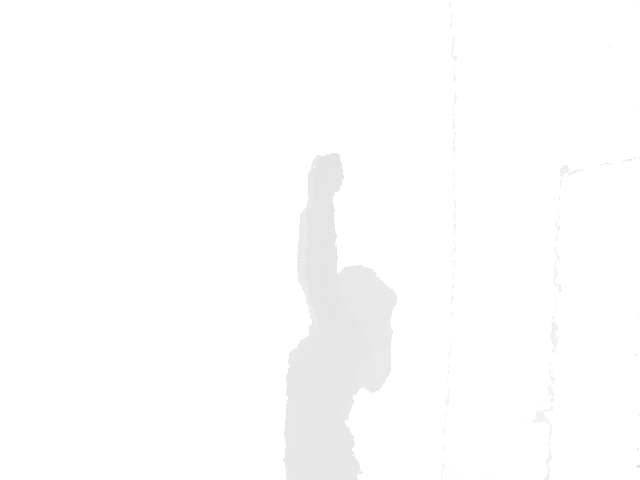hand: (306, 152, 345, 198)
head: (327, 264, 398, 336)
person: (282, 151, 399, 479)
